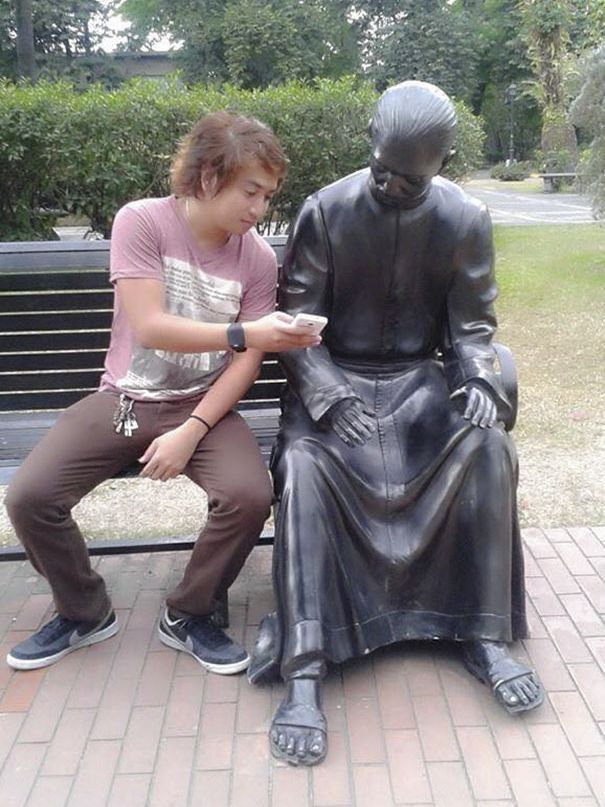person: (1, 106, 331, 681)
person-like: (255, 73, 549, 773)
